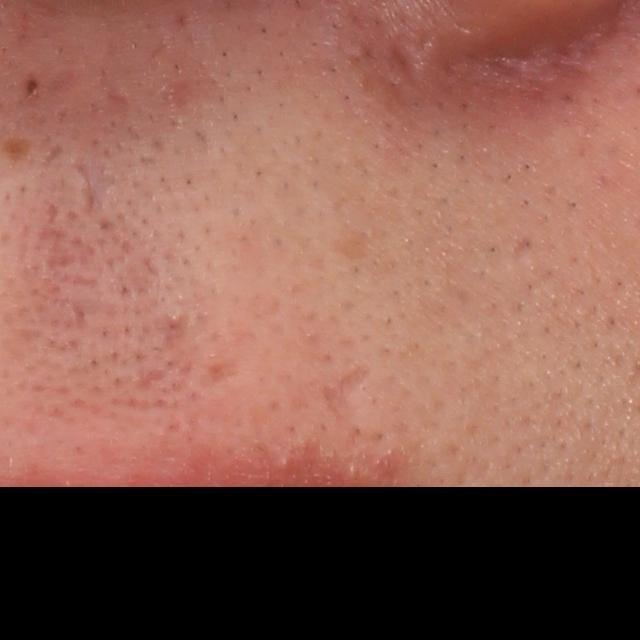atrophic_scar: (312, 361, 385, 431), (385, 34, 418, 91), (74, 158, 100, 218), (200, 363, 244, 385), (132, 365, 168, 388), (41, 142, 65, 170), (102, 87, 133, 105), (70, 276, 102, 290), (142, 256, 162, 278), (24, 71, 38, 101), (71, 308, 86, 334), (47, 200, 58, 228)
